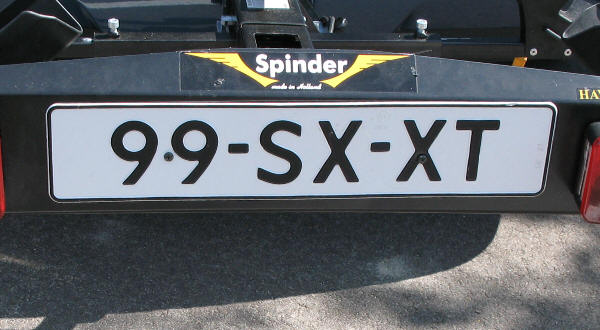license_plate: (46, 102, 558, 199)
